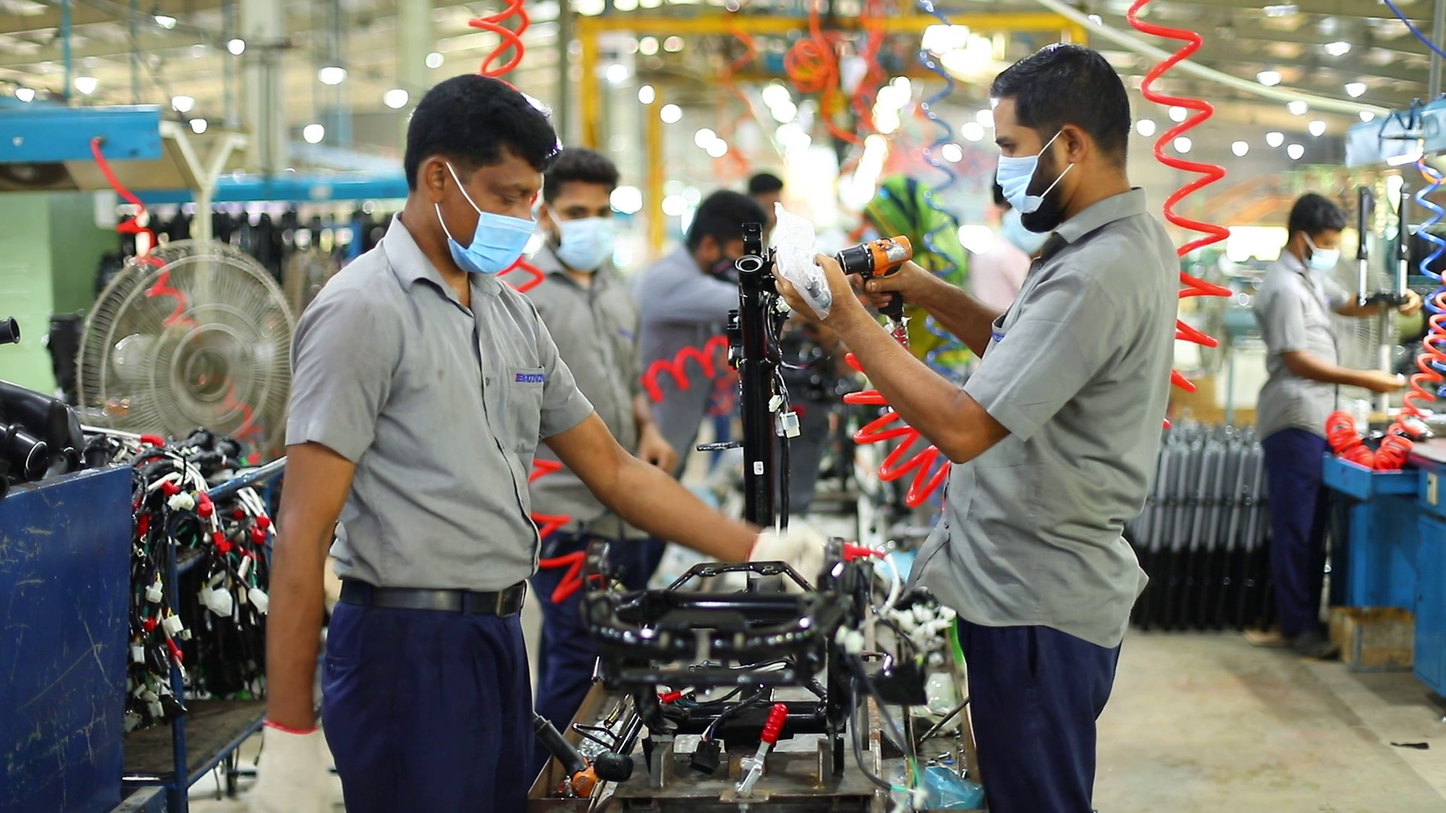mask: (447, 209, 538, 274), (555, 218, 616, 272), (994, 155, 1045, 215), (1306, 246, 1341, 276), (709, 255, 741, 282)
person: (249, 71, 829, 813), (770, 38, 1181, 813), (517, 145, 678, 733), (1235, 190, 1429, 660), (630, 189, 776, 487), (959, 168, 1043, 313), (745, 172, 783, 233)
